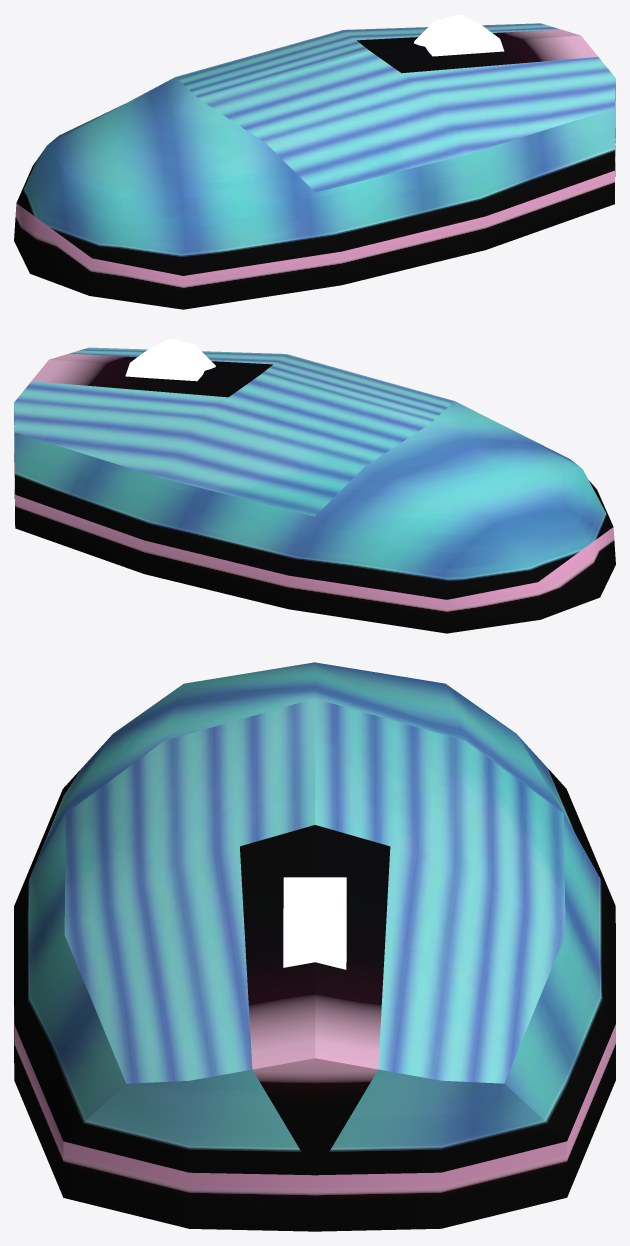
The model's file is mouse-retro.glb.
The picture shows the model from 3 angles, top to bottom: view 1: azimuth 30°, elevation 25°; view 2: azimuth 150°, elevation 25°; view 3: azimuth 270°, elevation 25°; orthographic projection. The views are drawn at different scales.
Visible parts, largest first — view 1: Mouse_Retro; view 2: Mouse_Retro; view 3: Mouse_Retro.
Boxes of the visible parts, x1,y1,x2,y2 form: Mouse_Retro: (14, 14, 615, 309); Mouse_Retro: (14, 338, 615, 633); Mouse_Retro: (14, 662, 615, 1231).
Bounding box in the file's own units: 1.21 × 0.3043 × 0.6841.
Materials: 2 (2 with a texture image).
